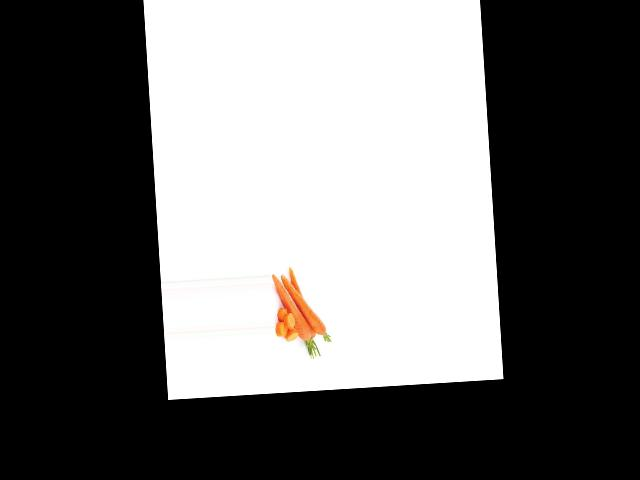carrot: (271, 272, 313, 350)
